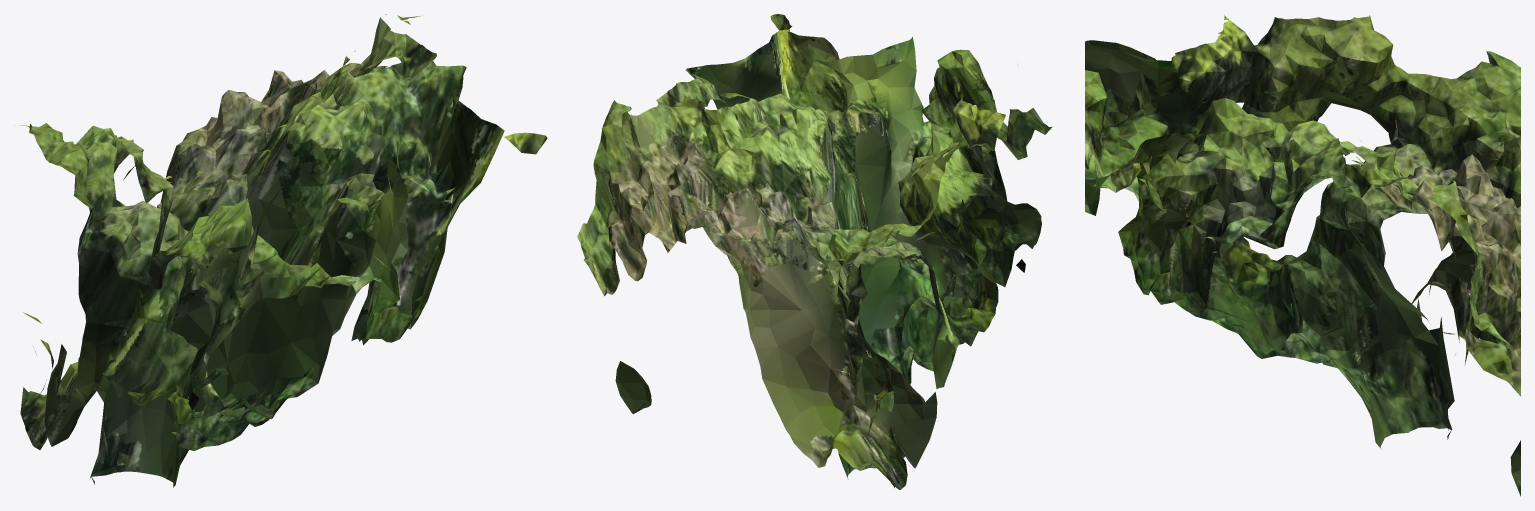
3 renders of one model, left to right at view 1: azimuth 30°, elevation 25°; view 2: azimuth 150°, elevation 25°; view 3: azimuth 270°, elevation 25°, orthographic. The views are drawn at different scales.
Bounding box in the file's own units: 26.11 × 26.11 × 26.11.
Materials: 7 (7 with a texture image).
